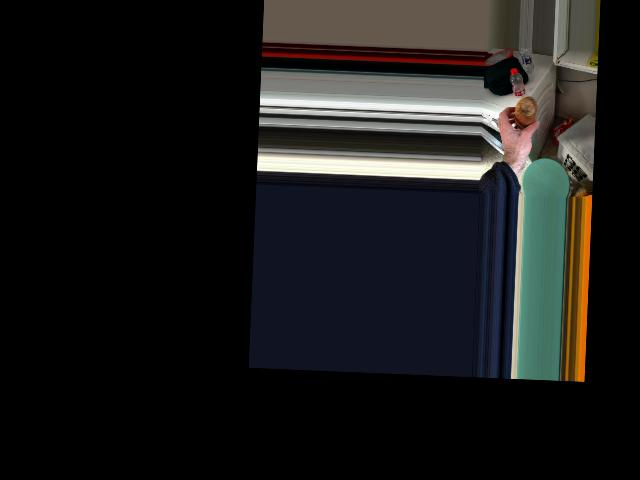sweet_potato: (511, 94, 541, 133)
